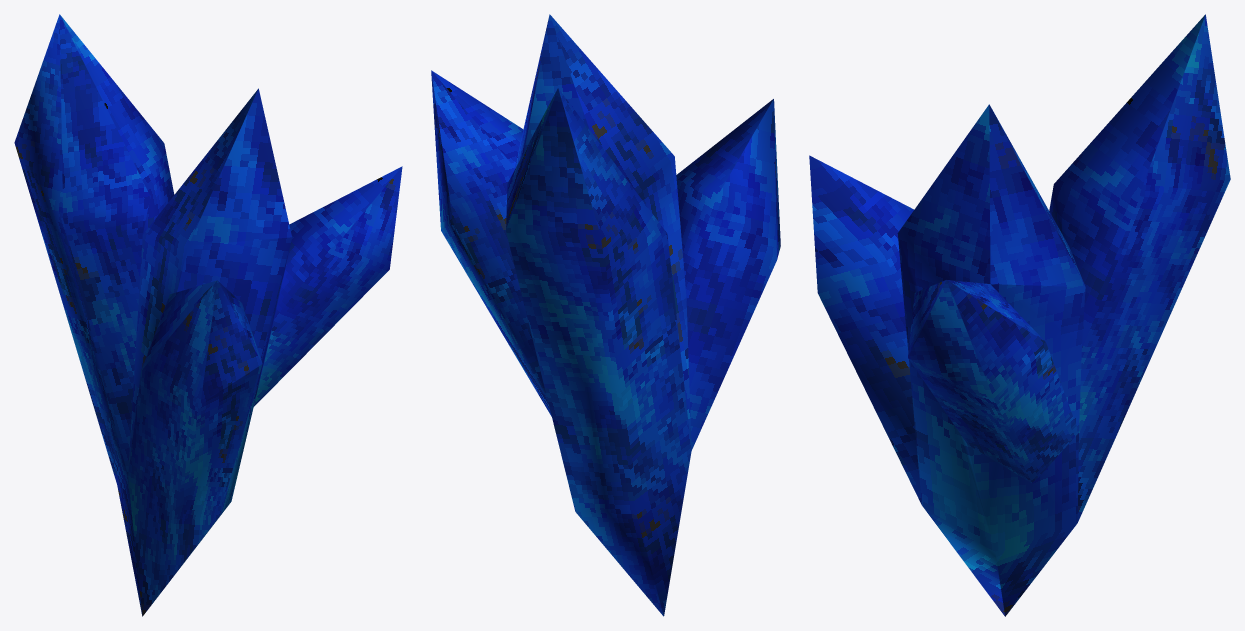
Rendered from OUBLIETTECRYSTAL4.fbx.
3 renders of one model, left to right at view 1: azimuth 30°, elevation 25°; view 2: azimuth 150°, elevation 25°; view 3: azimuth 270°, elevation 25°, orthographic. The views are drawn at different scales.
Parts seen in each view (by area): view 1: OUBLIETTECRYSTAL4; view 2: OUBLIETTECRYSTAL4; view 3: OUBLIETTECRYSTAL4.
Part boxes in pixels (<box>): OUBLIETTECRYSTAL4: <box>14,14,402,616</box>; OUBLIETTECRYSTAL4: <box>431,14,780,616</box>; OUBLIETTECRYSTAL4: <box>809,14,1230,616</box>.
Size of the model in its own units: 3818 by 6861 by 4323.
1 material, 1 textured.
